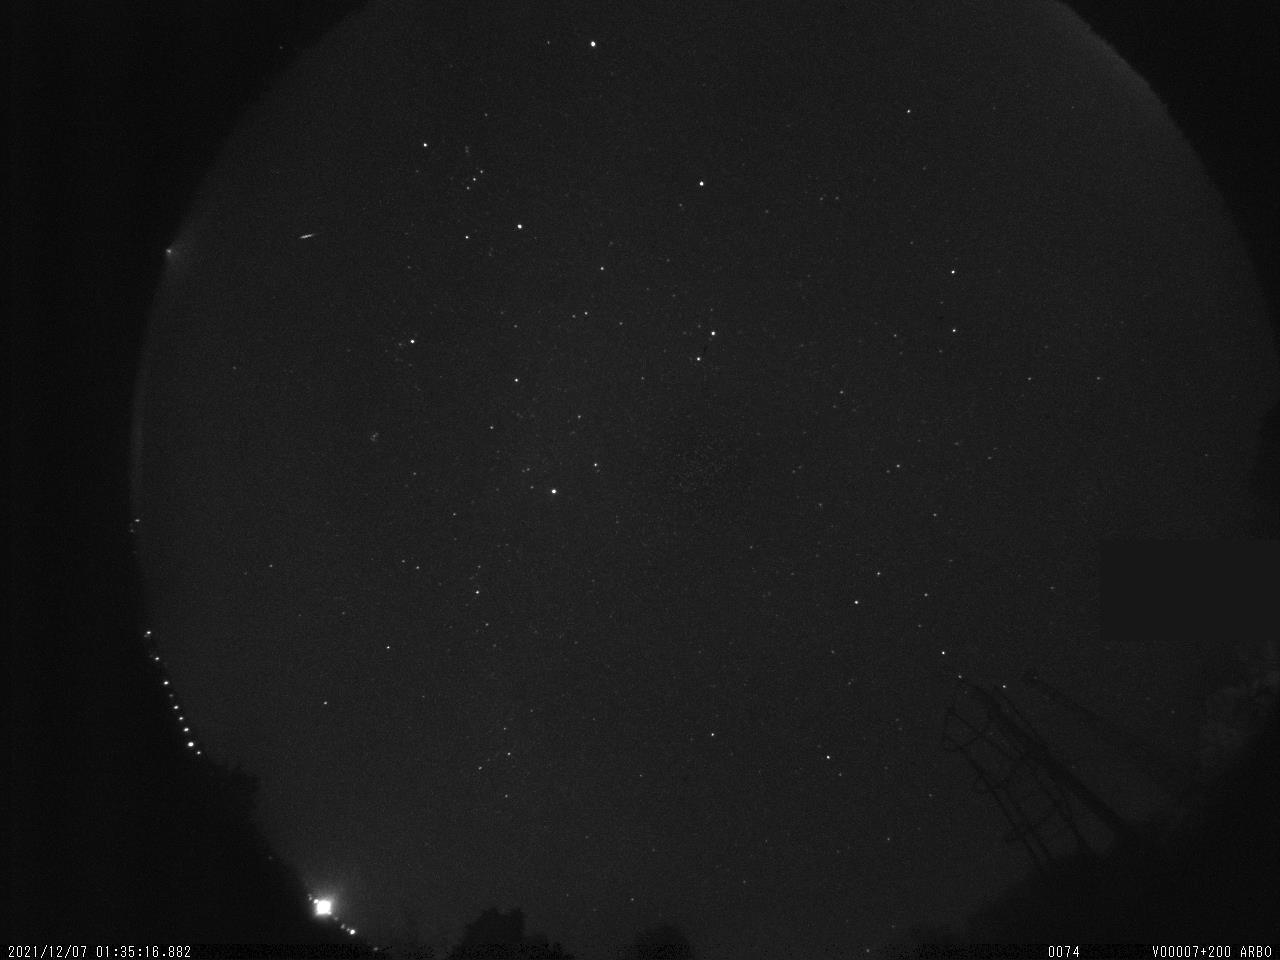meteor: (294, 228, 322, 245)
